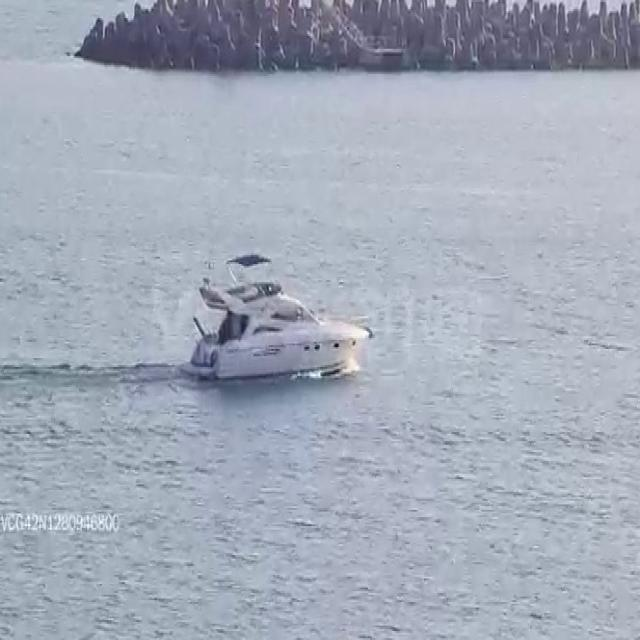houseboat: (179, 244, 372, 385)
